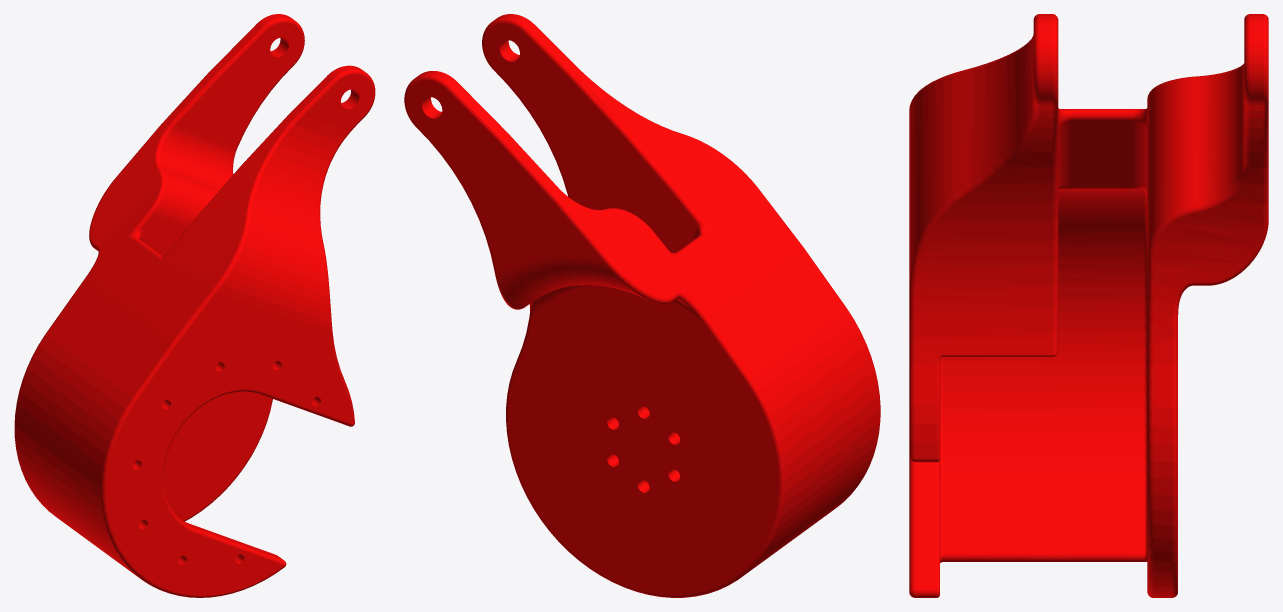
Rendered from legs_1_left_leg_1_belt_thigh_left_1.glb.
3 views of the same model, side by side, from view 1: azimuth 30°, elevation 25°; view 2: azimuth 150°, elevation 25°; view 3: azimuth 270°, elevation 25° (orthographic). The views are drawn at different scales.
Visible parts, largest first — view 1: legs_1_left_leg_1_belt_thigh_left_1.obj; view 2: legs_1_left_leg_1_belt_thigh_left_1.obj; view 3: legs_1_left_leg_1_belt_thigh_left_1.obj.
Part boxes in pixels (x1=…): legs_1_left_leg_1_belt_thigh_left_1.obj: x1=14, y1=14, x2=375, y2=597; legs_1_left_leg_1_belt_thigh_left_1.obj: x1=404, y1=14, x2=880, y2=597; legs_1_left_leg_1_belt_thigh_left_1.obj: x1=909, y1=14, x2=1268, y2=597.
Size of the model in its own units: 0.1767 by 0.243 by 0.117.
